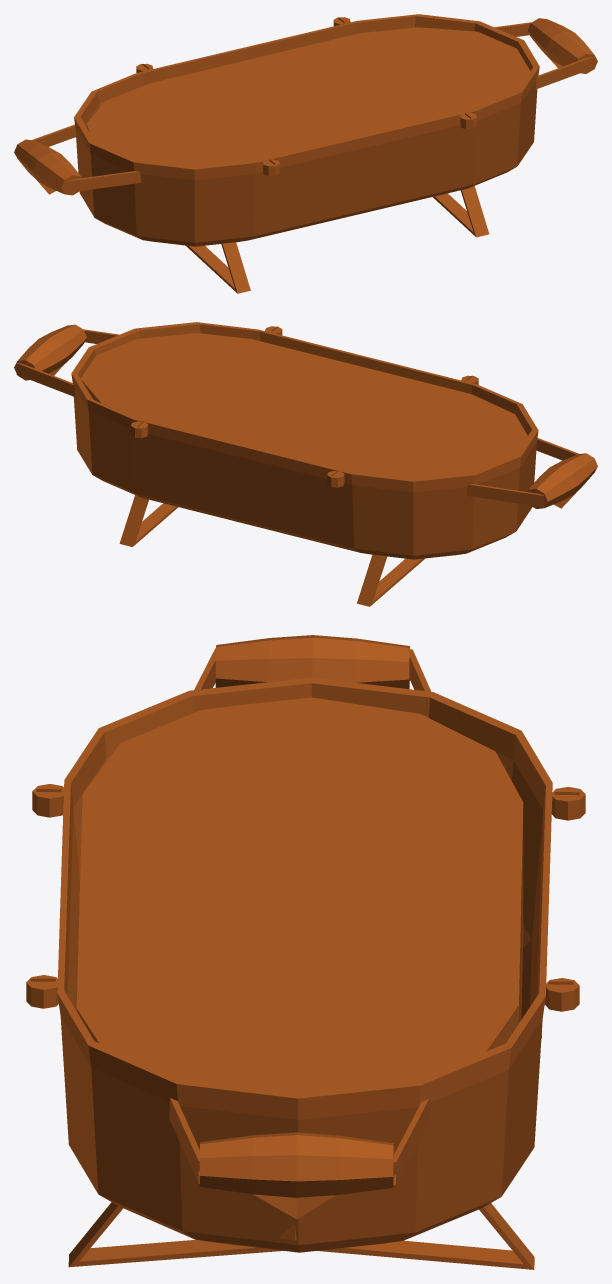
Rendered from oven.fbx.
3 views of the same model, one above another, from view 1: azimuth 30°, elevation 25°; view 2: azimuth 150°, elevation 25°; view 3: azimuth 270°, elevation 25° (orthographic). The views are drawn at different scales.
Parts seen in each view (by area): view 1: churrasqueira_Sphere_001, Line008; view 2: churrasqueira_Sphere_001, Line008; view 3: Line008, churrasqueira_Sphere_001.
Boxes of the visible parts, bbox=[...] form: churrasqueira_Sphere_001: bbox=[14, 14, 597, 293]; Line008: bbox=[86, 27, 530, 167]; churrasqueira_Sphere_001: bbox=[14, 322, 597, 606]; Line008: bbox=[81, 333, 527, 479]; Line008: bbox=[76, 697, 523, 1240]; churrasqueira_Sphere_001: bbox=[26, 635, 585, 1269].
Bounding box in the file's own units: 25.51 × 5.87 × 11.38.
